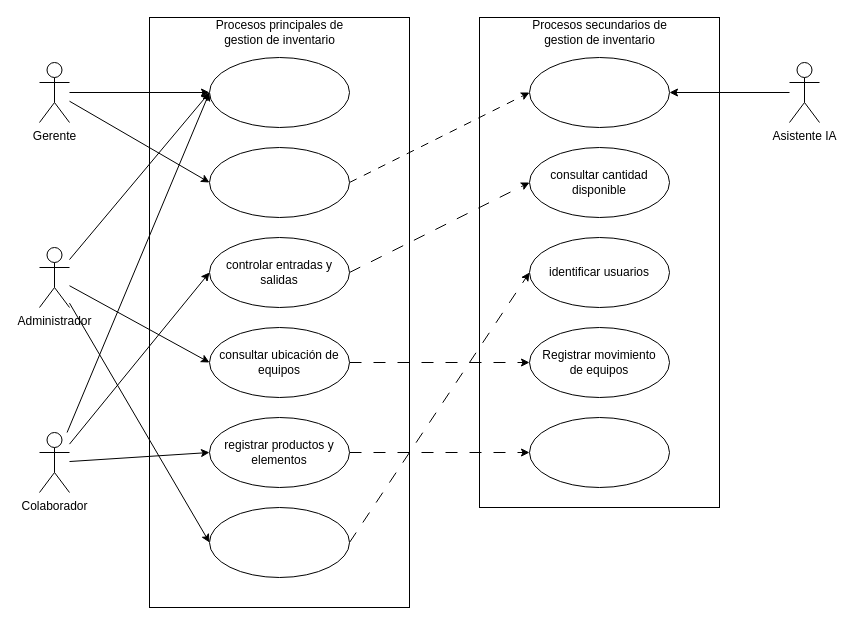
This 853x625 diagram has some shape labels left out. Each missing label, with the centre of its shape:
"administrar usuarios y permisos" belongs at pixel 279 542.
"calcular costo de produccion" belongs at pixel 599 92.
"consultar costos de material" belongs at pixel 279 182.
"Iniciar sesion" belongs at pixel 279 92.
"Modificar/eliminar elementos" belongs at pixel 599 452.
